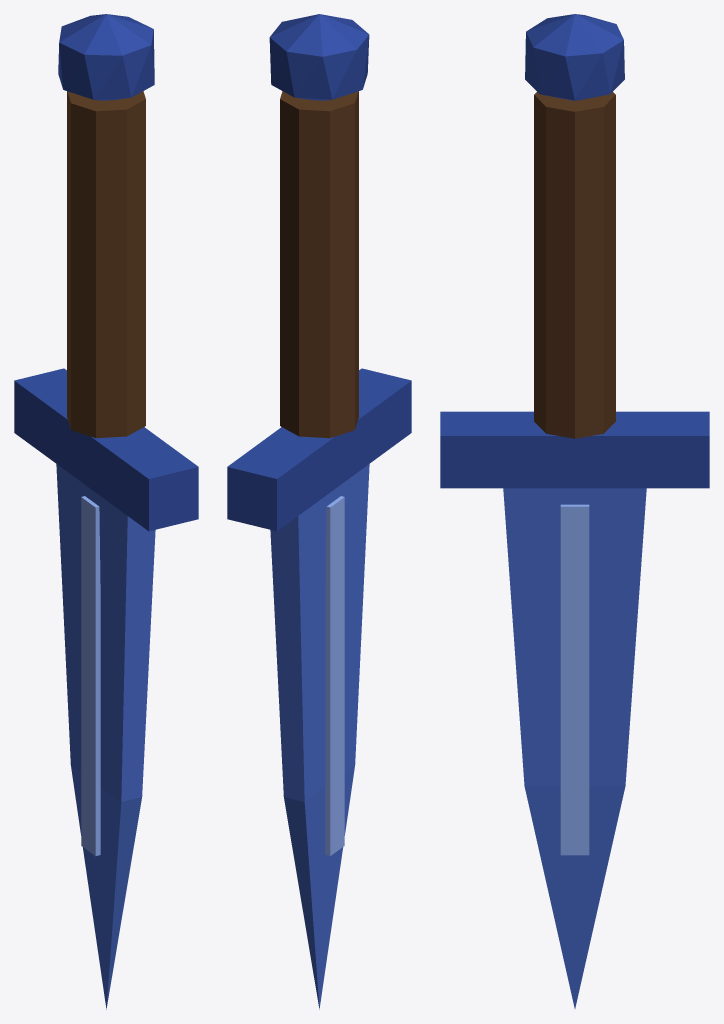
Rendered from held_mithril_dagger.glb.
The picture shows the model from 3 angles, left to right: view 1: azimuth 30°, elevation 25°; view 2: azimuth 150°, elevation 25°; view 3: azimuth 270°, elevation 25°; orthographic projection.
Parts seen in each view (by area): view 1: held_mithril_dagger; view 2: held_mithril_dagger; view 3: held_mithril_dagger.
Part boxes in pixels (x1,y1,x2,y2): held_mithril_dagger: (14,14,198,1009); held_mithril_dagger: (227,14,411,1009); held_mithril_dagger: (440,14,709,1008).
Size of the model in its own units: 0.0416 by 0.457 by 0.112.
